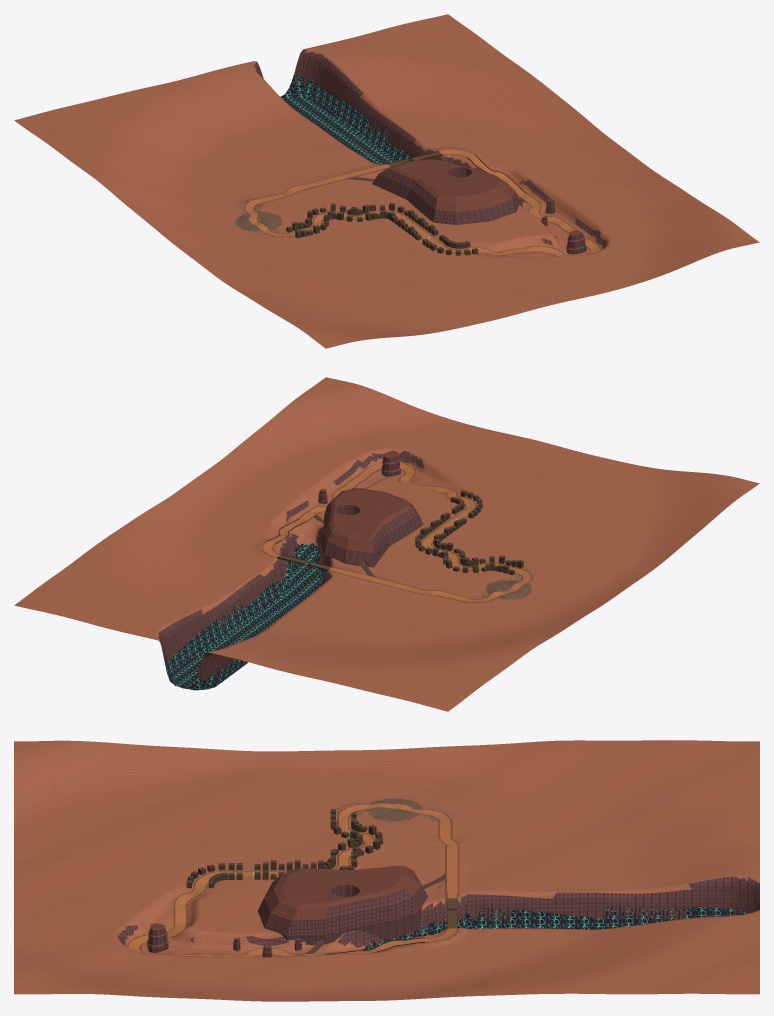
3 views of the same model, one above another, from view 1: azimuth 30°, elevation 25°; view 2: azimuth 150°, elevation 25°; view 3: azimuth 270°, elevation 25° (orthographic). The views are drawn at different scales.
Parts seen in each view (by area): view 1: Land, Hazard Ridge, Town; view 2: Land, Hazard Ridge, Town; view 3: Land, Hazard Ridge, Town, Road 13 trail, Road 01 street, Road 02 trail, Road 03 trail, Road 04 trail, Dead Mans Rock, Road 10 ledge.
Part boxes in pixels (left/top/right/bottom): Land: left=14, top=14, right=759, bottom=348; Hazard Ridge: left=372, top=158, right=520, bottom=225; Town: left=286, top=202, right=478, bottom=255; Land: left=14, top=377, right=759, bottom=711; Hazard Ridge: left=320, top=488, right=423, bottom=567; Town: left=415, top=490, right=523, bottom=575; Land: left=14, top=740, right=759, bottom=1001; Hazard Ridge: left=258, top=865, right=428, bottom=945; Town: left=186, top=809, right=382, bottom=888; Road 13 trail: left=167, top=887, right=206, bottom=938; Road 01 street: left=254, top=816, right=374, bottom=876; Road 02 trail: left=338, top=803, right=434, bottom=816; Road 03 trail: left=430, top=810, right=458, bottom=854; Road 04 trail: left=446, top=854, right=458, bottom=898; Dead Mans Rock: left=147, top=923, right=168, bottom=952; Road 10 ledge: left=325, top=937, right=425, bottom=954.
Bounding box in the file's own units: 900 × 100 × 1120.
Materials: 13 (13 with a texture image).
